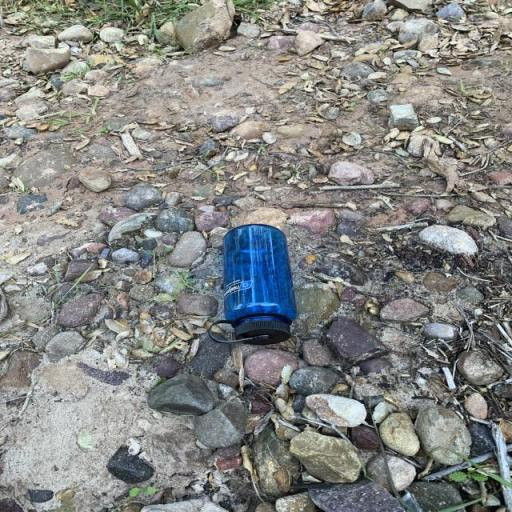bottle: (208, 224, 298, 346)
